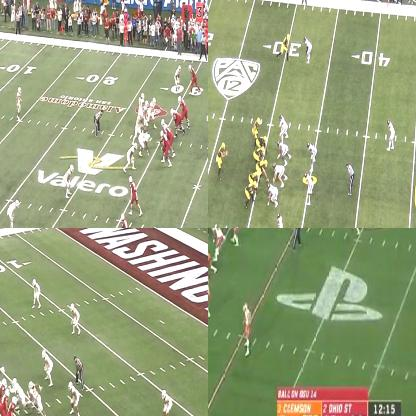CENTER: (0, 376, 11, 402), (256, 160, 270, 178), (162, 118, 172, 134)
DB: (244, 304, 252, 354), (63, 164, 74, 199), (7, 200, 19, 227), (162, 390, 174, 415), (32, 278, 41, 309), (15, 87, 23, 121), (71, 303, 79, 333), (304, 36, 312, 64), (387, 120, 394, 150), (208, 268, 212, 313), (174, 63, 180, 88), (352, 228, 362, 237)
LB: (40, 349, 54, 390), (211, 228, 226, 263), (70, 380, 80, 416), (303, 174, 314, 206), (133, 110, 145, 136), (307, 142, 318, 168), (278, 114, 287, 140), (230, 228, 241, 245), (138, 94, 145, 113), (277, 212, 285, 227)
QB: (217, 143, 226, 178)
SKILL: (128, 176, 143, 214), (189, 66, 199, 92), (280, 33, 290, 58), (120, 213, 136, 227), (252, 116, 260, 138)
